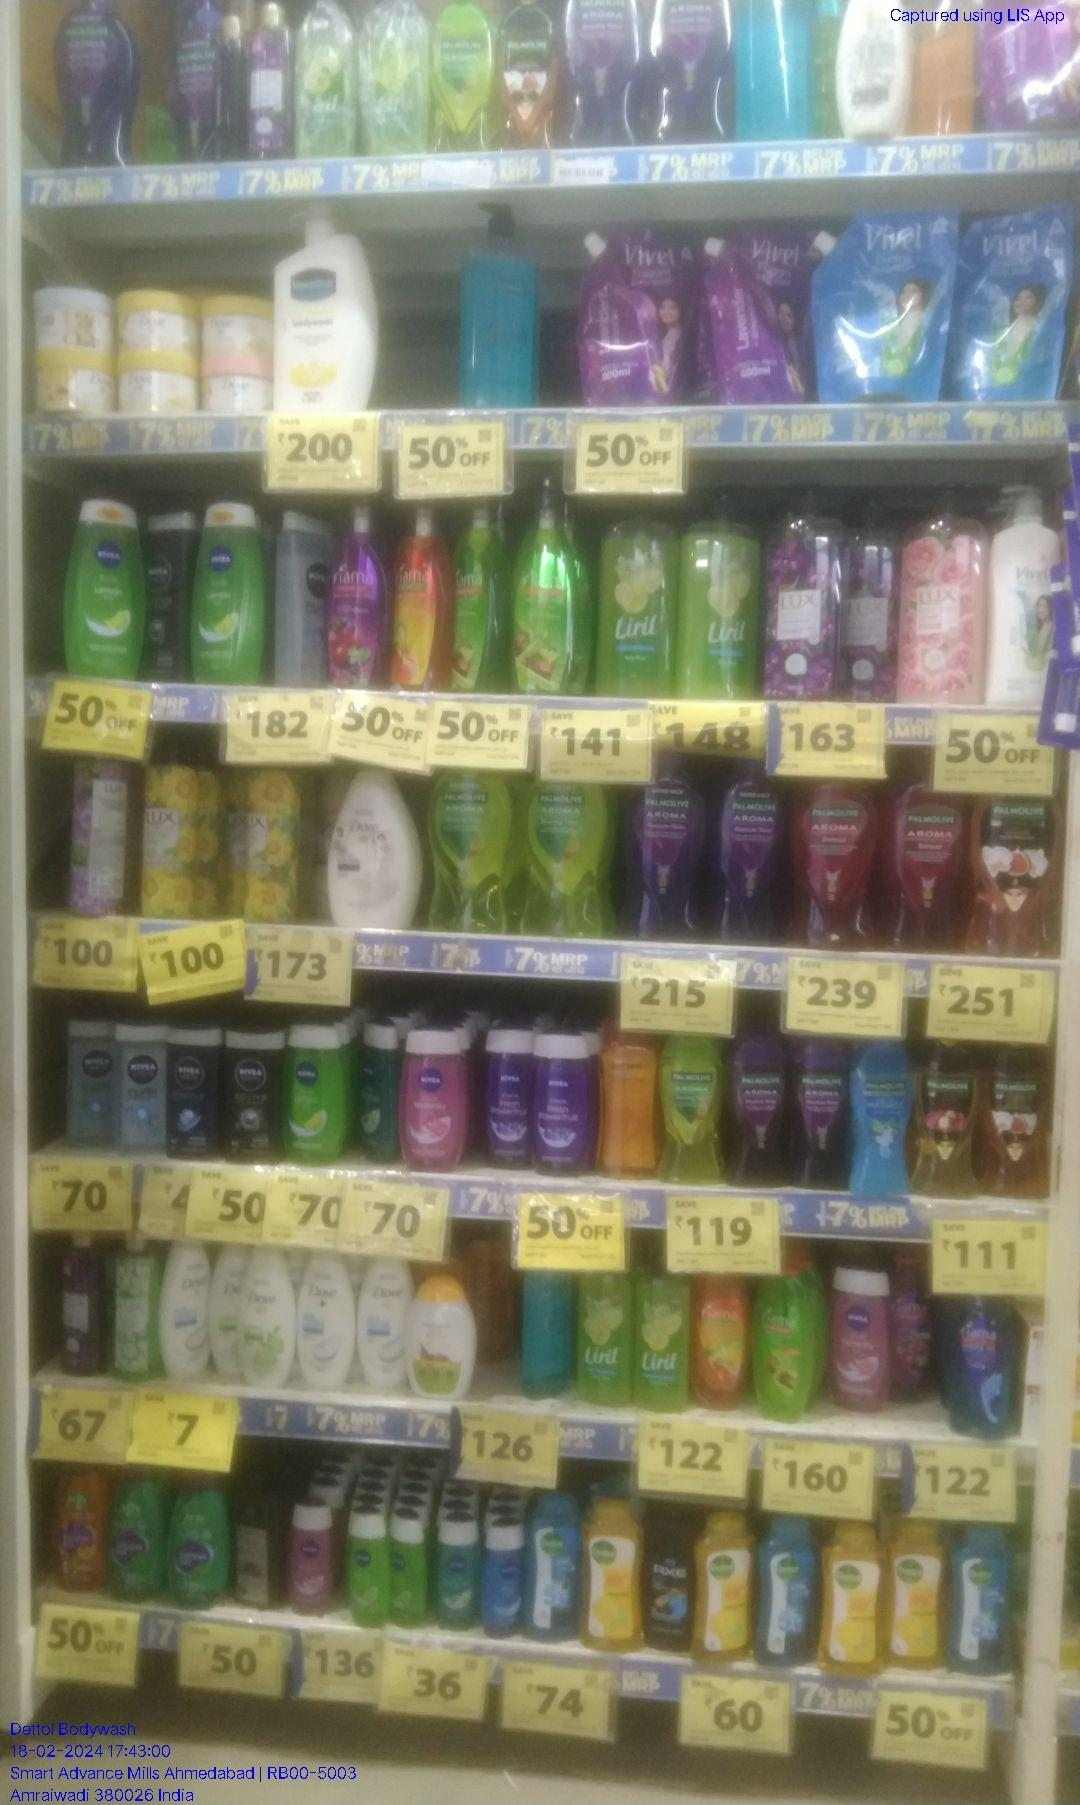Dettol_Bodywash_Cool: (948, 1525, 1012, 1673), (759, 1509, 819, 1665), (530, 1493, 580, 1642)
Dettol_Bodywash_Refresh: (824, 1522, 888, 1678), (887, 1518, 942, 1687), (585, 1490, 643, 1649), (694, 1504, 750, 1665)
Dove_Gentle_Exfoliating_Body_Wash_250ML: (297, 1246, 357, 1387), (363, 1253, 410, 1395), (162, 1242, 208, 1385)
Dove_Refreshing_Body_Wash_250ML: (237, 1242, 294, 1387)
Fiama_Shower_Gel_Lemongrass_and_Jojoba_250ML: (752, 1271, 813, 1424)
Fiama_Shower_Gel_Peach_and_Avocado_250ML: (693, 1271, 748, 1410)
Get_Real_Shower_Gel_Moisturising_Glycerin_300ML: (599, 1023, 656, 1178)
Joy_Shower_Gel_Mandarin_and_Lemongrass_250ML: (45, 1459, 109, 1588)
Joy_Shower_Gel_Mint_and_Eucalyptus_250ML: (171, 1475, 225, 1608), (114, 1464, 163, 1597)
Liril_Lime_and_Tea_Tree_Oil_Body_Wash_250ML: (636, 1266, 687, 1410), (576, 1273, 630, 1405)
Lux_Black_Orchid_Scent_and_Juniper_Oil_Body_Wash_245ML: (55, 1230, 103, 1382)
Lux_Body_Wash_Skin_Detox_Freesia_Scent_and_Alove_Vera_245ML: (108, 1230, 157, 1383)
Nivea_Shower_Gel_Fresh_Powerfruit_250ML: (536, 1032, 590, 1174), (487, 1034, 528, 1166)
Nivea_Shower_Gel_Lemon_and_Oil_250ML: (68, 498, 141, 680), (198, 494, 261, 681), (291, 1023, 354, 1165)
Nivea_Shower_Gel_Waterlily_and_Oil_250ML: (823, 1260, 895, 1419), (400, 1032, 472, 1174)
Palmolive_Aroma_Moments_Feel_The_Massage_Shower_Gel_250ML: (854, 1027, 910, 1211)
Palmolive_Aroma_Morning_Tonic_Shower_Gel_250ML: (428, 3, 491, 153), (662, 1036, 723, 1181)
Palmolive_Aroma_Relax_250ML: (728, 1023, 791, 1189), (797, 1036, 845, 1188)
Palmolive_Luminous_Oils_Invigorating_Macadamia_Oil_With_Peony_250ML: (917, 1031, 981, 1201)
Palmolive_Luminous_Oils_With_White_Orchid_Shower_Gel_250ML: (991, 1041, 1054, 1203), (496, 4, 559, 144)
Pears_Pure_Glycerin_and_Mint_Extracts_Body_Wash_250ML: (463, 190, 545, 411), (521, 1271, 571, 1397)
